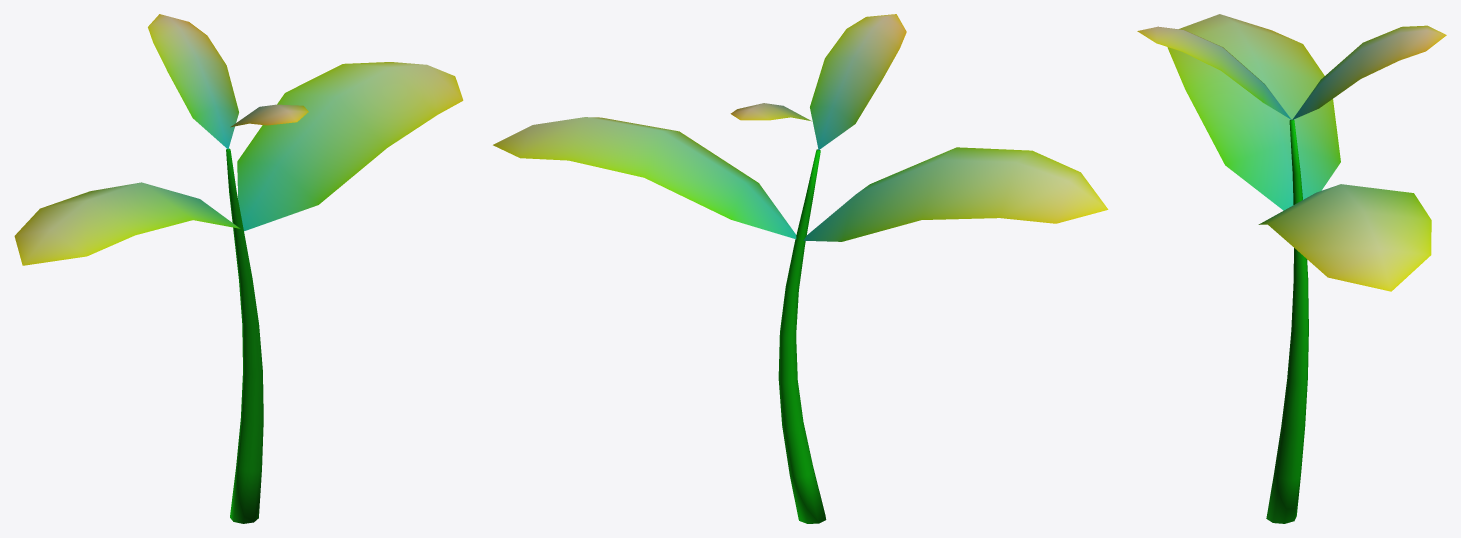
Rendered from plant_germ.glb.
3 views of the same model, side by side, from view 1: azimuth 30°, elevation 25°; view 2: azimuth 150°, elevation 25°; view 3: azimuth 270°, elevation 25° (orthographic). The views are drawn at different scales.
Parts seen in each view (by area): view 1: Leaves, Stem; view 2: Leaves, Stem; view 3: Leaves, Stem.
Boxes of the visible parts, box(x1,y1,x2,y2) form: Leaves: box(14, 14, 463, 265); Stem: box(226, 148, 263, 523); Leaves: box(493, 14, 1108, 241); Stem: box(778, 149, 826, 523); Leaves: box(1137, 14, 1446, 291); Stem: box(1266, 119, 1308, 523).
Bounding box in the file's own units: 0.0958 × 0.08 × 0.0465.
